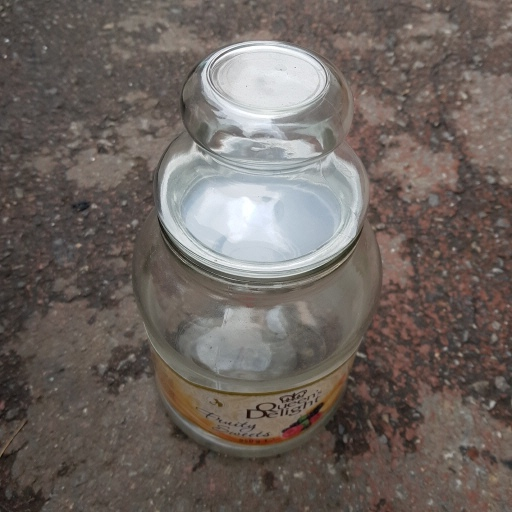Glass_5: (142, 44, 385, 453)
